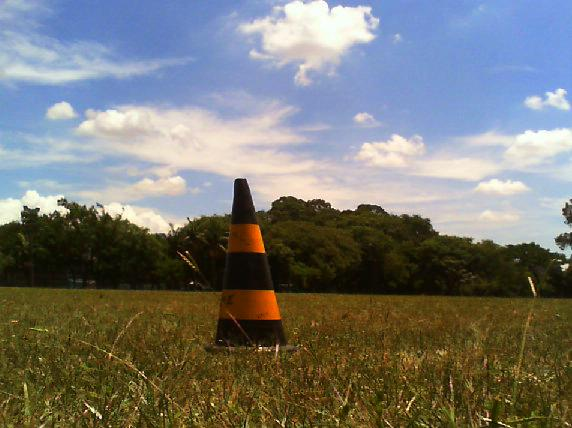0 cone: (198, 178, 296, 353)
